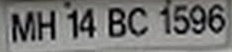character: (11, 10, 37, 44), (35, 9, 57, 40), (127, 7, 148, 36), (107, 6, 125, 38), (78, 7, 96, 38), (172, 3, 189, 35), (207, 3, 225, 33), (190, 3, 206, 35), (66, 8, 79, 39), (159, 5, 172, 35)
